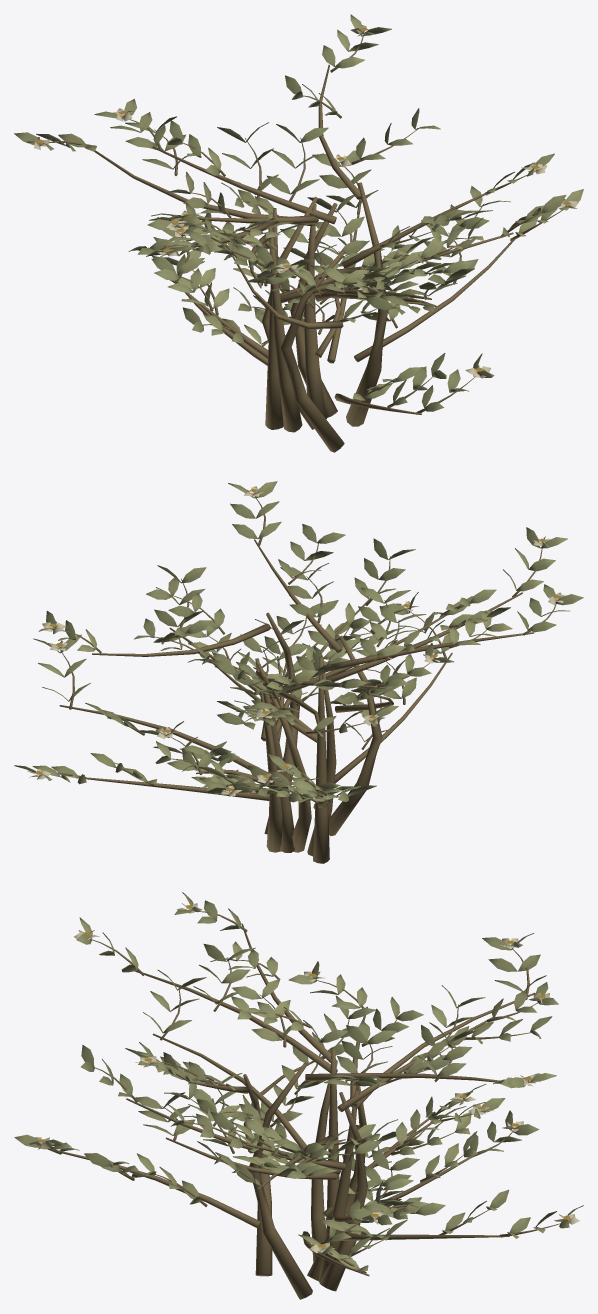
The model's file is Ciste_0_LOD0.fbx.
3 renders of one model, top to bottom at view 1: azimuth 30°, elevation 25°; view 2: azimuth 150°, elevation 25°; view 3: azimuth 270°, elevation 25°, orthographic. The views are drawn at different scales.
Parts seen in each view (by area): view 1: Ciste_0_LOD0; view 2: Ciste_0_LOD0; view 3: Ciste_0_LOD0.
Boxes of the visible parts, box(x1,y1,x2,y2) form: Ciste_0_LOD0: box(14, 14, 583, 452); Ciste_0_LOD0: box(14, 481, 583, 863); Ciste_0_LOD0: box(14, 892, 583, 1299).
Bounding box in the file's own units: 154 × 85.05 × 150.
